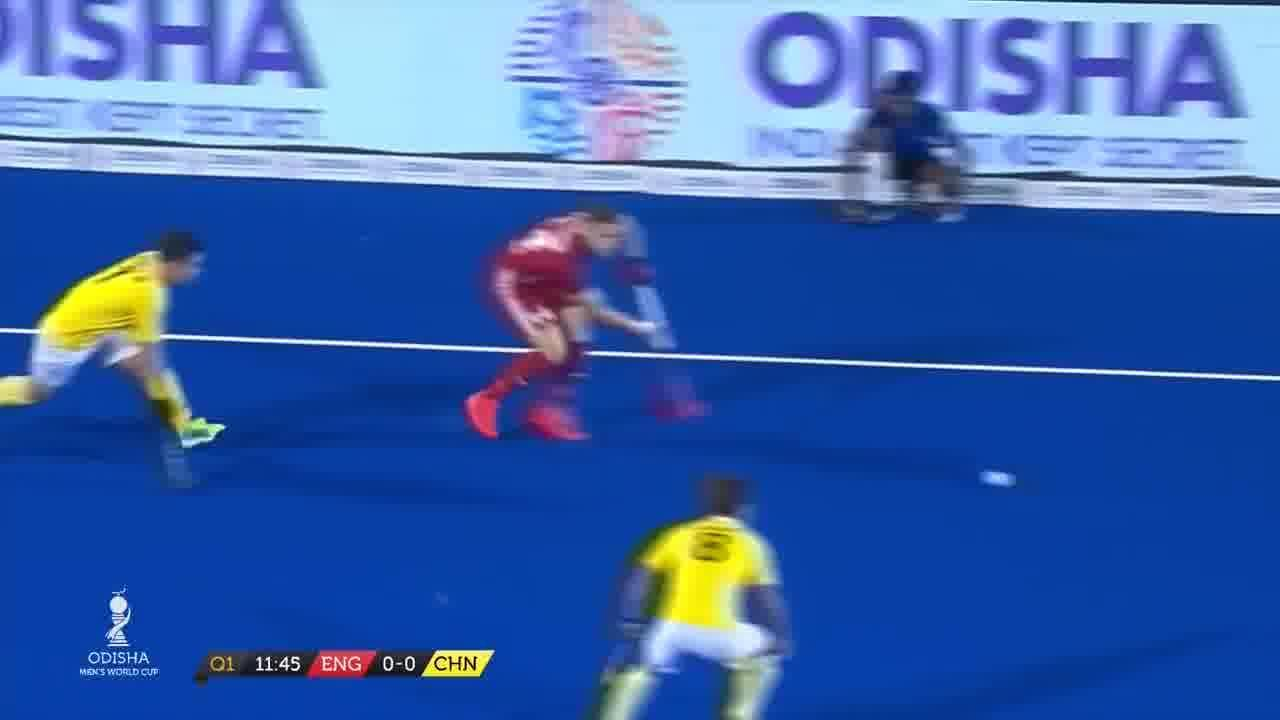ball: (978, 467, 1024, 494)
